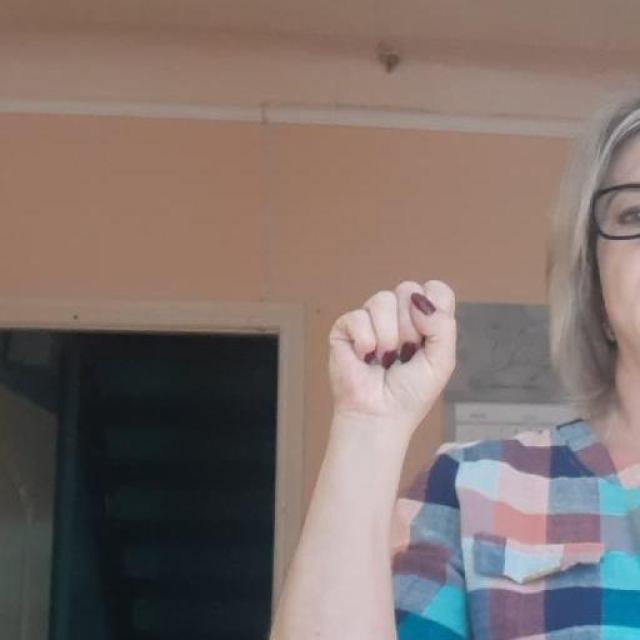hand: (327, 278, 458, 430)
